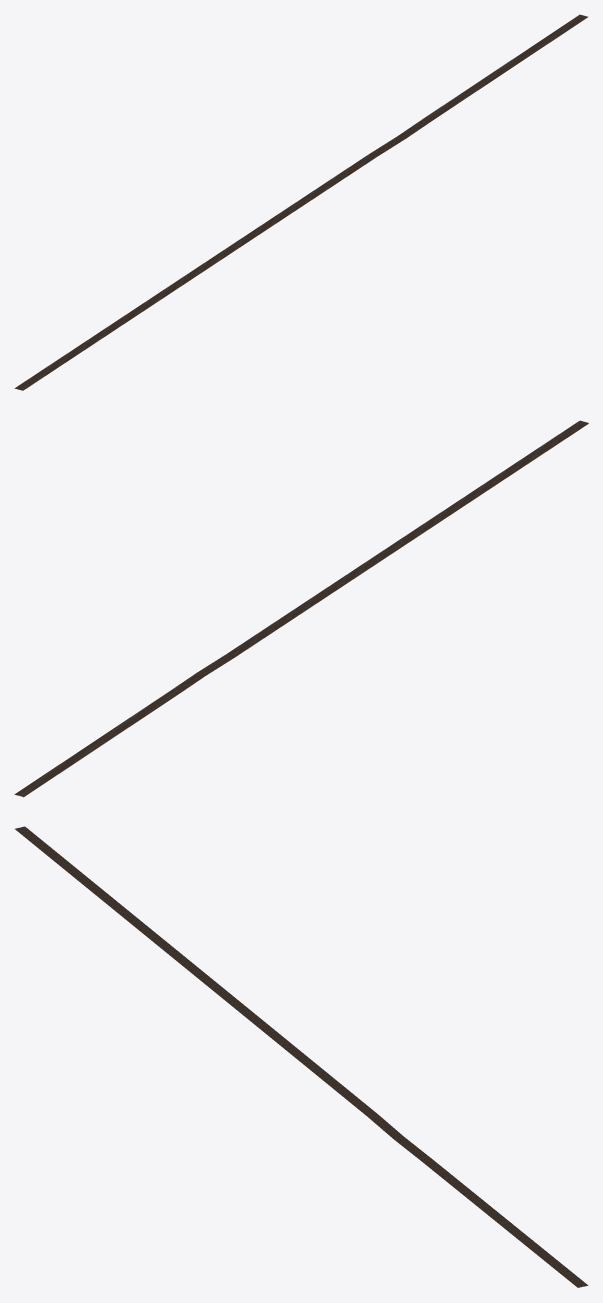
Rendered from kobe_0037.glb.
3 renders of one model, top to bottom at view 1: azimuth 30°, elevation 25°; view 2: azimuth 210°, elevation 25°; view 3: azimuth 270°, elevation 25°, orthographic. The views are drawn at different scales.
Visible parts, largest first — view 1: ballast_top, oxidised_rail_profiles; view 2: ballast_top, oxidised_rail_profiles, ballast_left; view 3: ballast_top, oxidised_rail_profiles.
Part boxes in pixels (bbox=[...]): ballast_top: bbox=[14, 14, 587, 390]; oxidised_rail_profiles: bbox=[15, 15, 586, 389]; ballast_top: bbox=[14, 421, 587, 796]; oxidised_rail_profiles: bbox=[16, 421, 586, 795]; ballast_left: bbox=[23, 423, 588, 797]; ballast_top: bbox=[15, 826, 588, 1287]; oxidised_rail_profiles: bbox=[16, 827, 586, 1286].
Bounding box in the file's own units: 674 × 0.819 × 355.
Materials: 4 (3 with a texture image).
